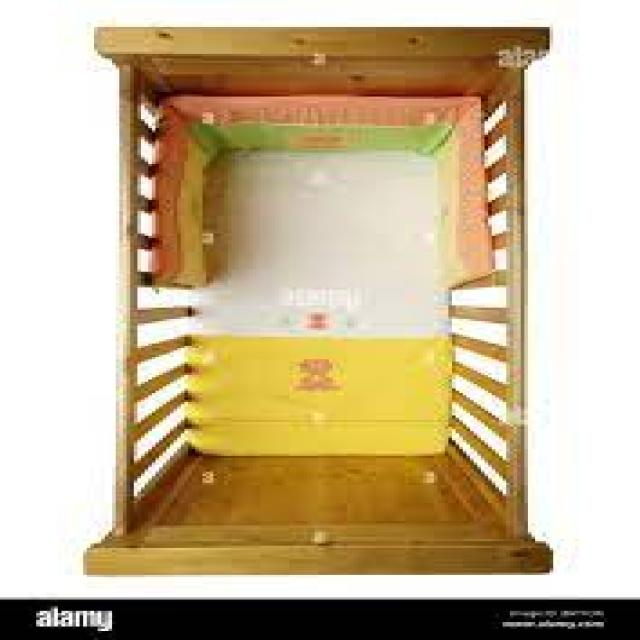crib: (80, 25, 553, 575)
